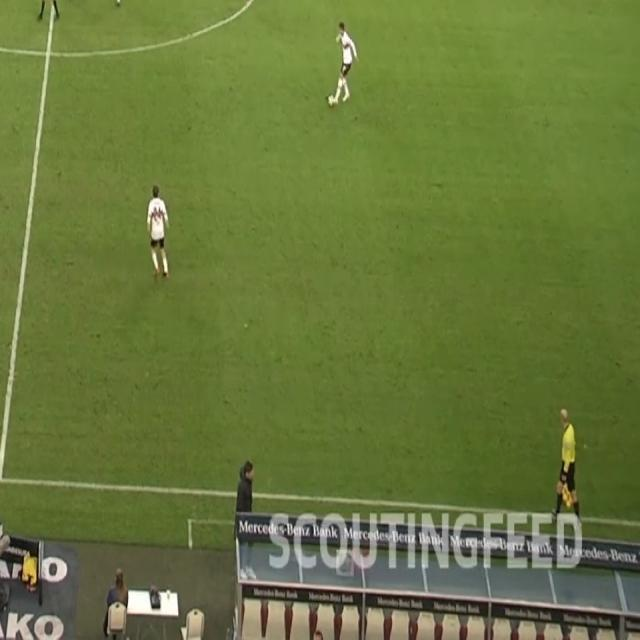ball: (326, 92, 336, 109)
